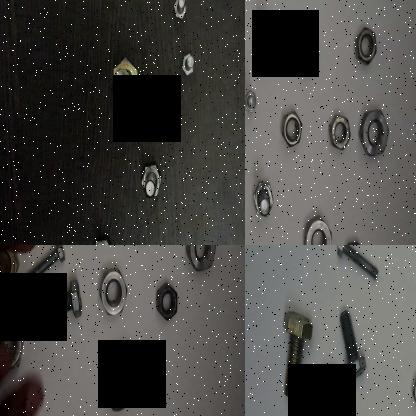Bolts: (271, 301, 315, 400), (40, 276, 84, 328), (338, 307, 366, 387), (22, 245, 68, 293), (110, 43, 140, 115), (336, 245, 381, 293), (307, 367, 349, 416), (251, 8, 279, 64), (250, 176, 280, 226), (139, 158, 163, 207), (177, 44, 199, 84), (171, 0, 189, 29), (245, 86, 259, 120), (86, 230, 116, 245)
NUTS: (104, 347, 144, 416), (354, 104, 392, 162), (96, 260, 130, 321), (351, 17, 383, 66), (324, 110, 352, 158), (304, 203, 336, 245), (297, 34, 323, 82), (154, 280, 180, 328), (183, 245, 219, 278), (280, 106, 304, 154), (410, 372, 416, 414)
